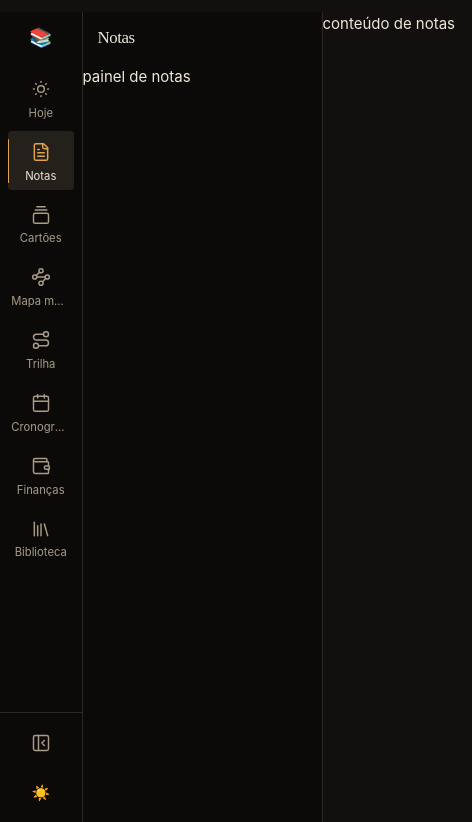
Test: AppShell › clicar numa seção troca o conteúdo, marca a aba e anima a entrada
What coordinates should you click on to do the following:
click the button "Hoje"
I would click on:
 (41, 98)
Its box is [8,68,74,127].
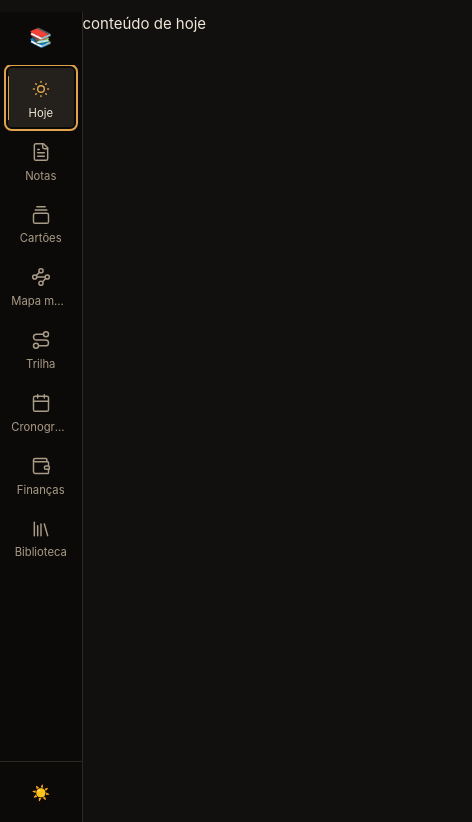
Expected: the element showing "conteúdo de hoje" is shown, [82,14,206,33]
Expected: the text "painel" is gone
